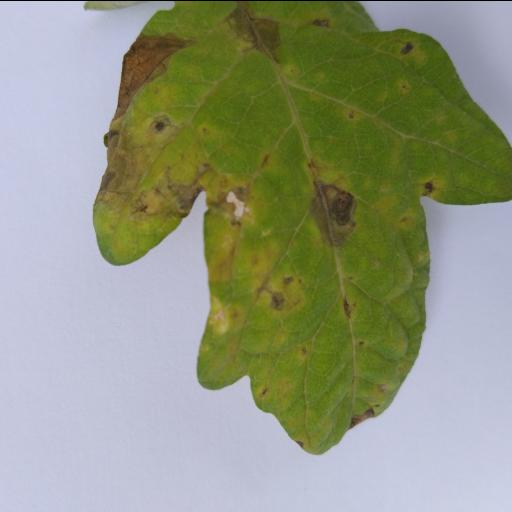Early Blight: (90, 0, 512, 450)
